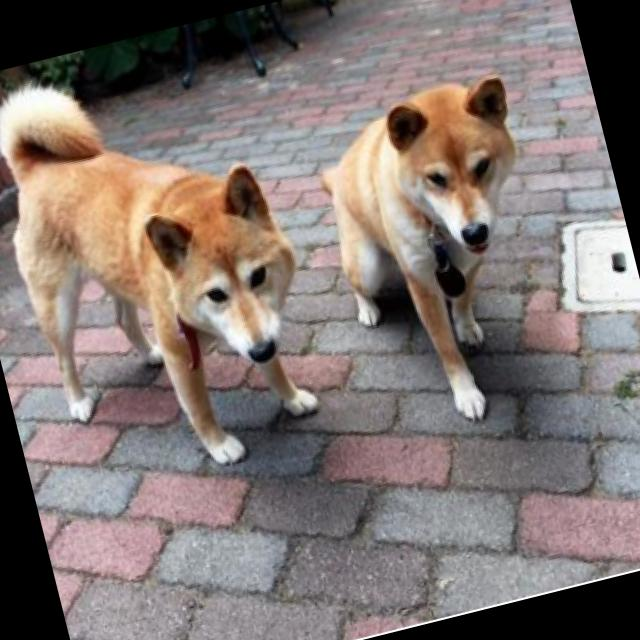dogs: (0, 29, 341, 504), (304, 63, 582, 443)
